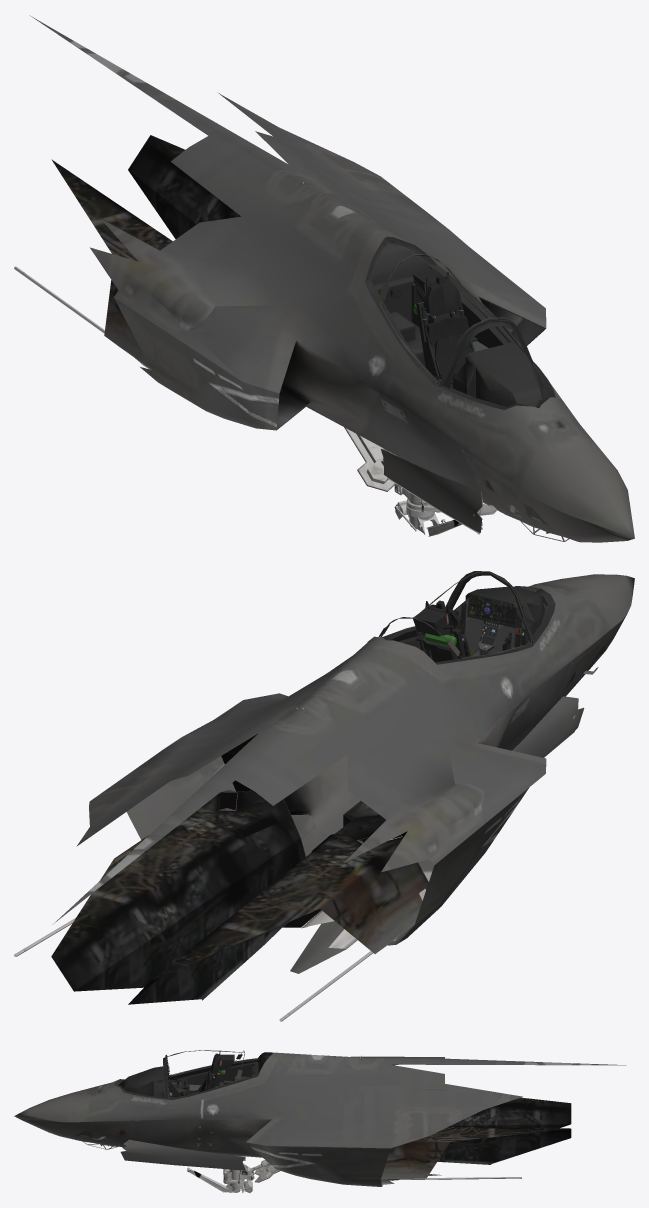
3 renders of one model, top to bottom at view 1: azimuth 30°, elevation 25°; view 2: azimuth 150°, elevation 25°; view 3: azimuth 270°, elevation 25°, orthographic. The views are drawn at different scales.
Parts seen in each view (by area): view 1: Object_4; view 2: Object_4; view 3: Object_4.
Part boxes in pixels (<box>): Object_4: <box>14,15,634,542</box>; Object_4: <box>14,571,634,1021</box>; Object_4: <box>14,1050,626,1192</box>.
Size of the model in its own units: 3.53 by 2.86 by 11.36.
Materials: 2 (1 with a texture image).
